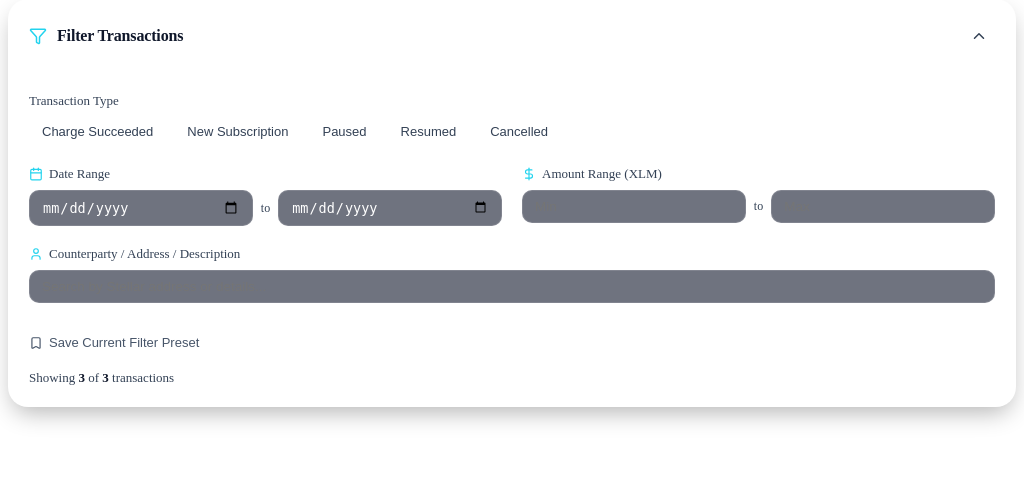
Test: WalletTransactionFilterPanel › displays empty state message when no transactions match
The image size is (1024, 491).
Type "NonExistentCounterparty12345" into the field with placeholder "Search by Stellar address or details..." at (512, 286), box [29,270,995,303]
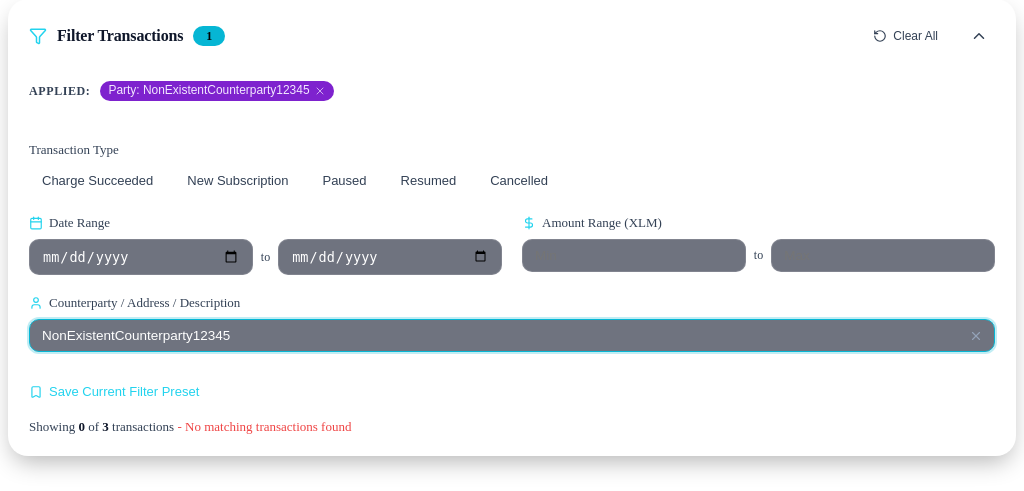
Expected: the text "- No matching transactions found" is shown, [174,419,352,434]
